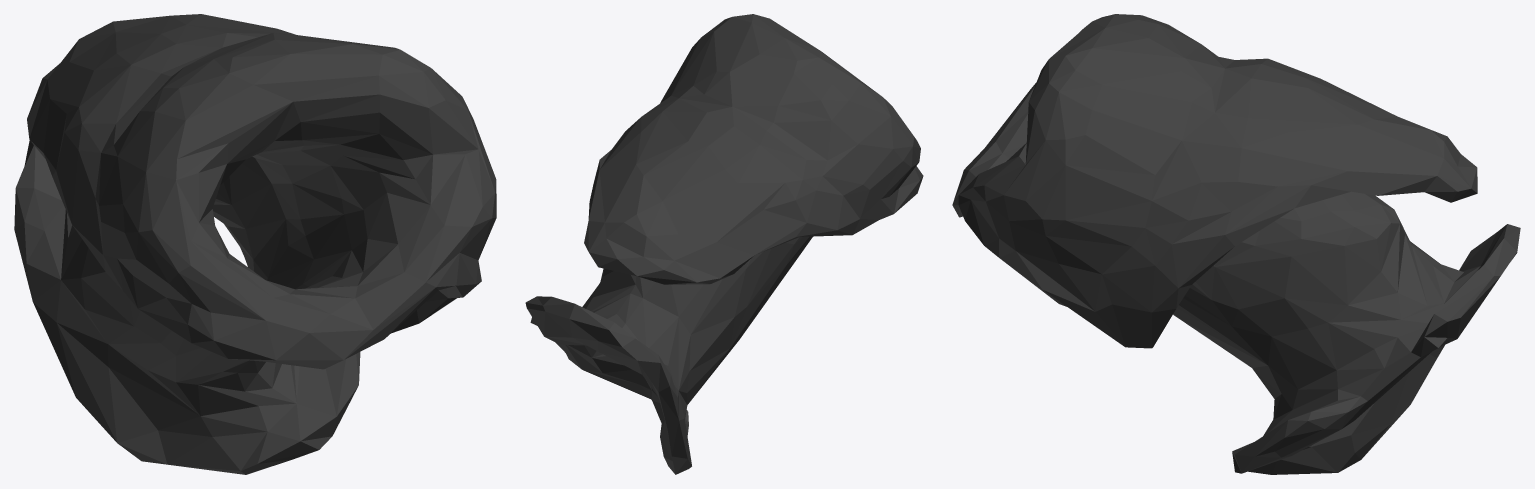
Rendered from oesophagus.glb.
3 renders of one model, left to right at view 1: azimuth 30°, elevation 25°; view 2: azimuth 150°, elevation 25°; view 3: azimuth 270°, elevation 25°, orthographic. The views are drawn at different scales.
Parts seen in each view (by area): view 1: oesophagus; view 2: oesophagus; view 3: oesophagus.
Boxes of the visible parts, x1,y1,x2,y2 form: oesophagus: (14,14,496,474); oesophagus: (525,14,923,474); oesophagus: (952,14,1520,474).
Size of the model in its own units: 0.2953 by 0.4198 by 0.4962.
1 material, 1 textured.
